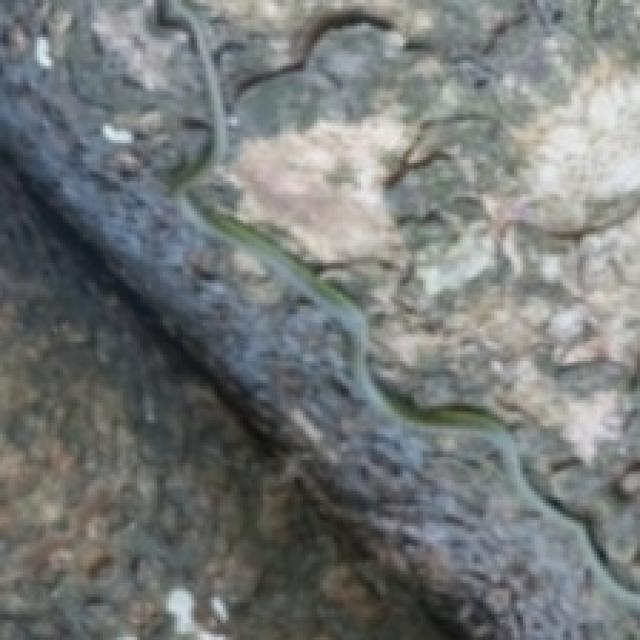paradise tree snake: (157, 0, 637, 637), (197, 309, 289, 394), (417, 429, 514, 500)
